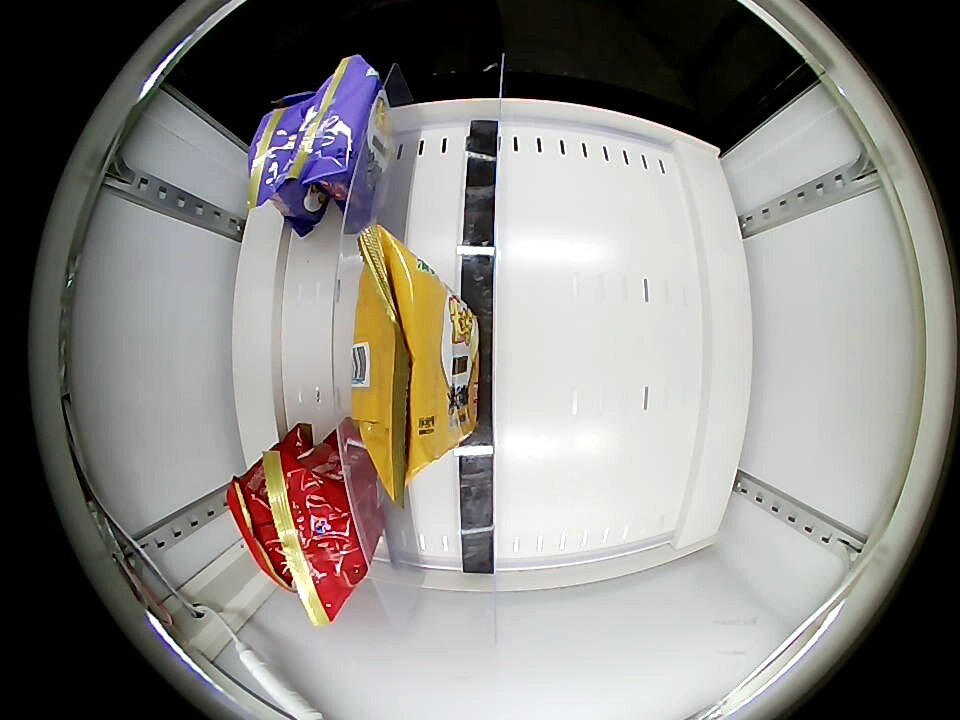kaomo_gali: (351, 241, 484, 480)
kaomo_jiaoyan: (293, 57, 389, 198), (248, 94, 305, 203)
kaomo_shaokao: (280, 442, 382, 616), (228, 462, 295, 598)
